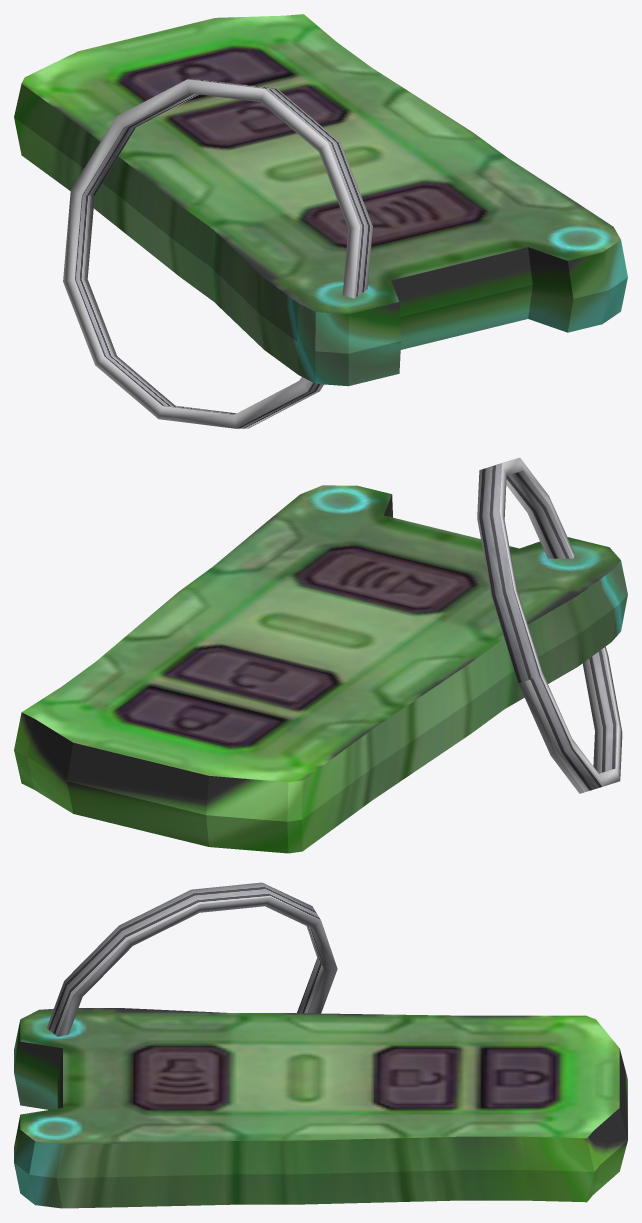
Rendered from key_fob_90s2.fbx.
The picture shows the model from 3 angles, top to bottom: view 1: azimuth 30°, elevation 25°; view 2: azimuth 150°, elevation 25°; view 3: azimuth 270°, elevation 25°; orthographic projection. The views are drawn at different scales.
Visible parts, largest first — view 1: fob_90s2; view 2: fob_90s2; view 3: fob_90s2.
Boxes of the visible parts, x1,y1,x2,y2 form: fob_90s2: (14,14,627,428); fob_90s2: (14,457,627,853); fob_90s2: (14,882,627,1208).
Size of the model in its own units: 11.44 by 8.02 by 16.42.
Materials: 1 (1 with a texture image).
